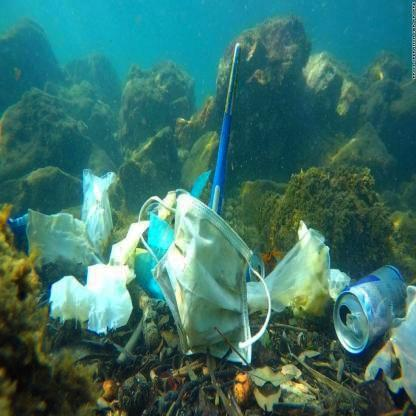Mask: (139, 175, 279, 379)
glove: (17, 171, 138, 350), (285, 204, 333, 333)
